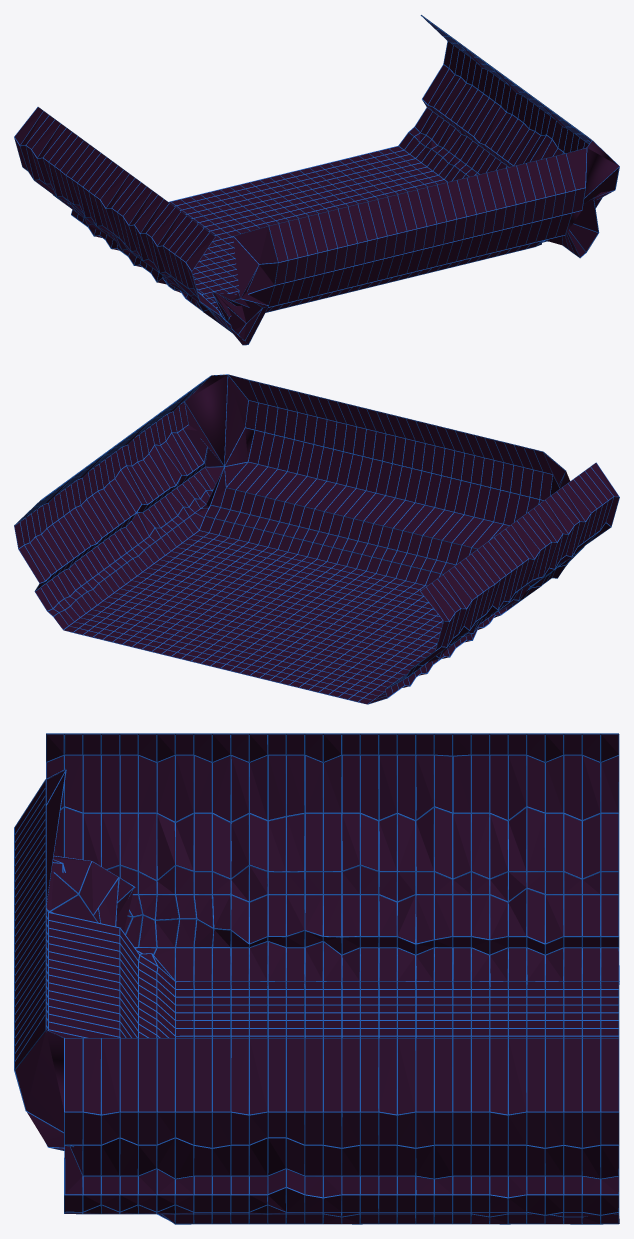
Rendered from test-bossroom-002.obj.
3 renders of one model, top to bottom at view 1: azimuth 30°, elevation 25°; view 2: azimuth 150°, elevation 25°; view 3: azimuth 270°, elevation 25°, orthographic. The views are drawn at different scales.
Visible parts, largest first — view 1: MUSHRMM-plane.001_MUSHRMM-plane.001_violette-surface.001, MUSHRMM-plane.001_MUSHRMM-plane.001_blue-wireframe.001; view 2: MUSHRMM-plane.001_MUSHRMM-plane.001_violette-surface.001, MUSHRMM-plane.001_MUSHRMM-plane.001_blue-wireframe.001; view 3: MUSHRMM-plane.001_MUSHRMM-plane.001_violette-surface.001, MUSHRMM-plane.001_MUSHRMM-plane.001_blue-wireframe.001.
Boxes of the visible parts, x1,y1,x2,y2 form: MUSHRMM-plane.001_MUSHRMM-plane.001_violette-surface.001: (15,18,619,344); MUSHRMM-plane.001_MUSHRMM-plane.001_blue-wireframe.001: (14,15,619,345); MUSHRMM-plane.001_MUSHRMM-plane.001_violette-surface.001: (14,374,618,704); MUSHRMM-plane.001_MUSHRMM-plane.001_blue-wireframe.001: (14,374,619,704); MUSHRMM-plane.001_MUSHRMM-plane.001_violette-surface.001: (15,734,619,1223); MUSHRMM-plane.001_MUSHRMM-plane.001_blue-wireframe.001: (14,733,619,1224).
Bounding box in the file's own units: 283 × 79.63 × 211.
